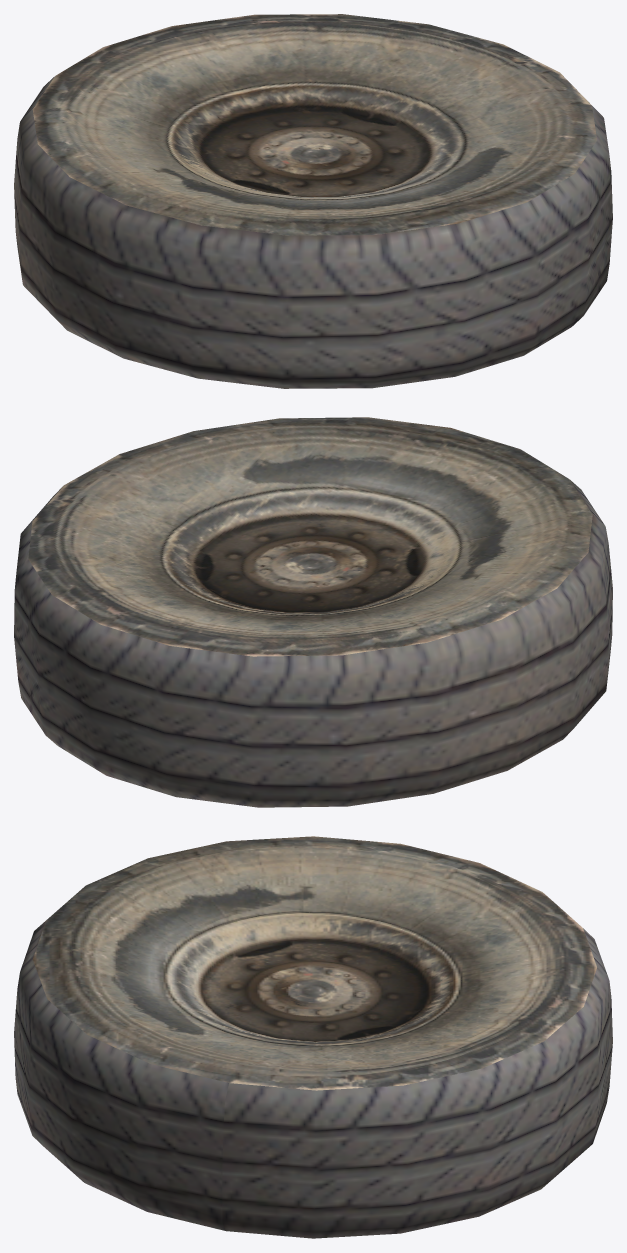
The model's file is tyre.fbx.
3 renders of one model, top to bottom at view 1: azimuth 30°, elevation 25°; view 2: azimuth 150°, elevation 25°; view 3: azimuth 270°, elevation 25°, orthographic.
Visible parts, largest first — view 1: U3DMesh; view 2: U3DMesh; view 3: U3DMesh.
Boxes of the visible parts, box(x1,y1,x2,y2) form: U3DMesh: box(14, 14, 612, 388); U3DMesh: box(14, 417, 612, 807); U3DMesh: box(14, 836, 612, 1238).
Size of the model in its own units: 34.99 by 11.17 by 35.
